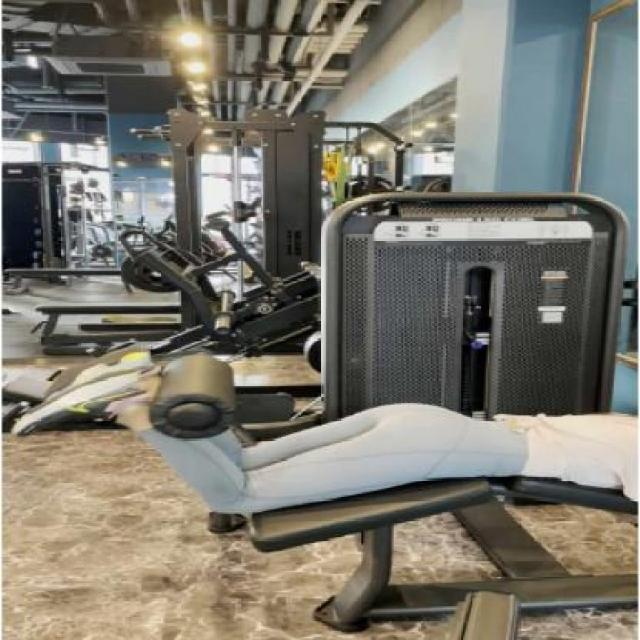reg curl machine: (3, 189, 635, 637)
